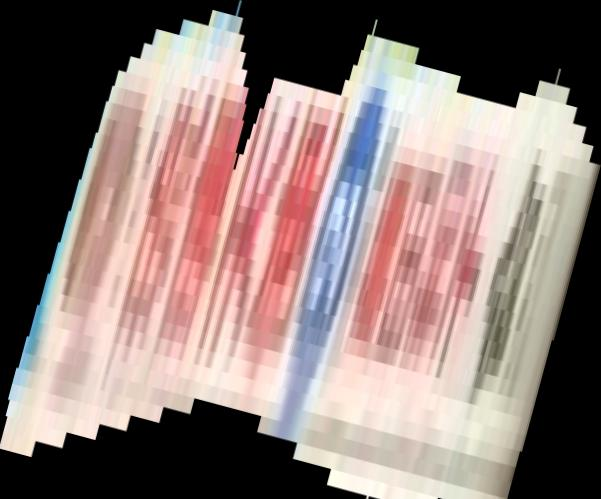flat: (1, 1, 601, 499)
